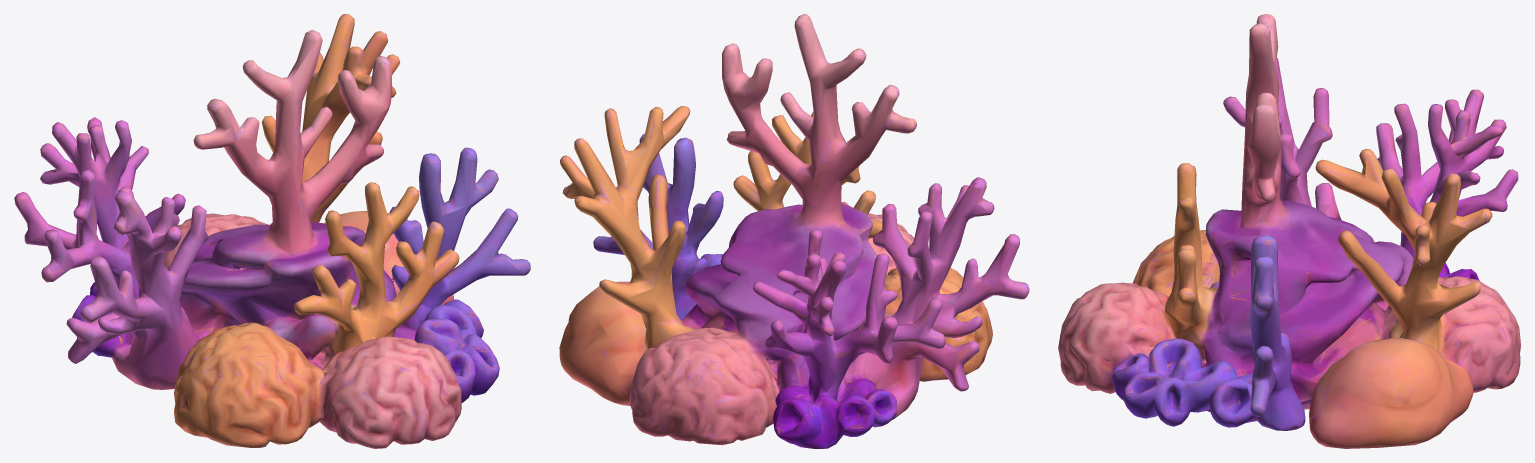
Rendered from decor_coral.glb.
3 renders of one model, left to right at view 1: azimuth 30°, elevation 25°; view 2: azimuth 150°, elevation 25°; view 3: azimuth 270°, elevation 25°, orthographic. The views are drawn at different scales.
Visible parts, largest first — view 1: Mesh_0; view 2: Mesh_0; view 3: Mesh_0.
Part boxes in pixels (x1,y1,x2,y2): Mesh_0: [14, 14, 530, 448]; Mesh_0: [559, 14, 1029, 448]; Mesh_0: [1058, 14, 1520, 448].
Size of the model in its own units: 1.91 by 1.41 by 1.73.
Materials: 1 (1 with a texture image).
